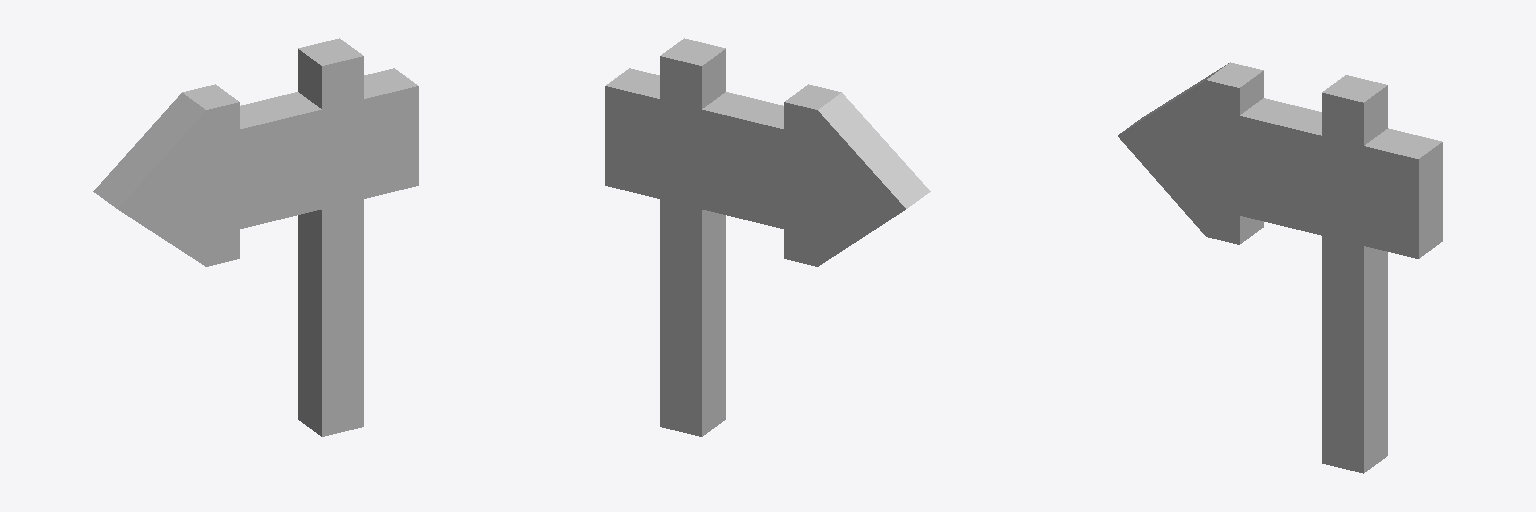
File: Arrow.obj
3 views of the same model, side by side, from view 1: azimuth 30°, elevation 25°; view 2: azimuth 150°, elevation 25°; view 3: azimuth 330°, elevation 25° (orthographic).
Parts seen in each view (by area): view 1: Cube; view 2: Cube; view 3: Cube.
Part boxes in pixels (bbox=[...]): Cube: bbox=[93, 38, 418, 436]; Cube: bbox=[605, 38, 930, 436]; Cube: bbox=[1118, 62, 1442, 473].
Size of the model in its own units: 14.35 by 16.88 by 2.